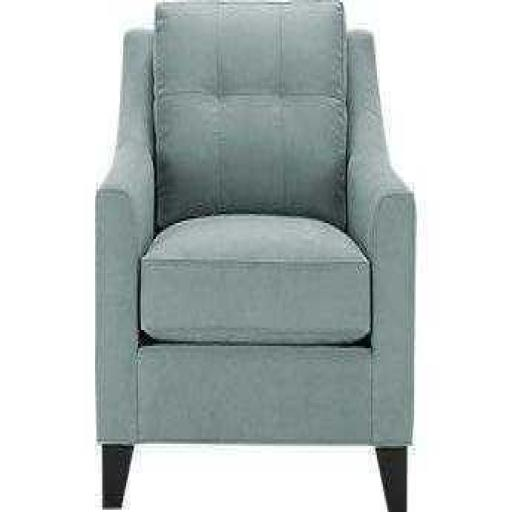chair: (90, 0, 419, 512)
